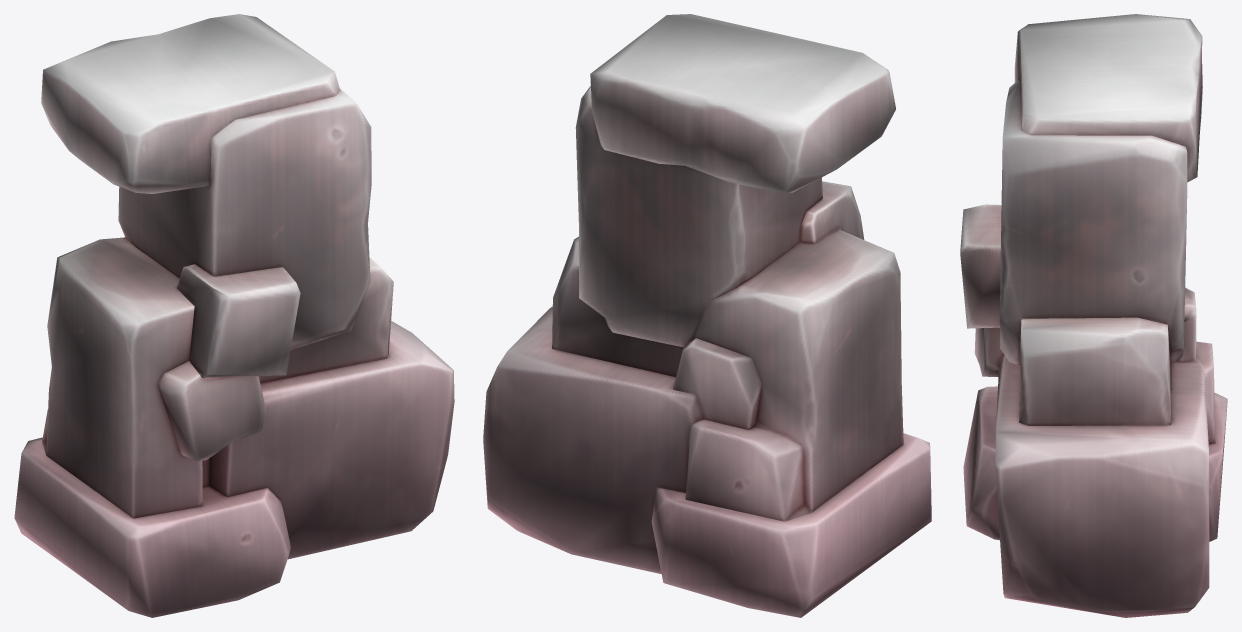
Rendered from SM_Gem_Halite_004.fbx.
The picture shows the model from 3 angles, left to right: view 1: azimuth 30°, elevation 25°; view 2: azimuth 150°, elevation 25°; view 3: azimuth 270°, elevation 25°; orthographic projection. The views are drawn at different scales.
Visible parts, largest first — view 1: SM_Gem_Halite_004; view 2: SM_Gem_Halite_004; view 3: SM_Gem_Halite_004.
Boxes of the visible parts, x1,y1,x2,y2 form: SM_Gem_Halite_004: (14,14,454,617); SM_Gem_Halite_004: (483,14,931,617); SM_Gem_Halite_004: (960,14,1227,617).
Size of the model in its own units: 61.86 by 85.22 by 43.76.
